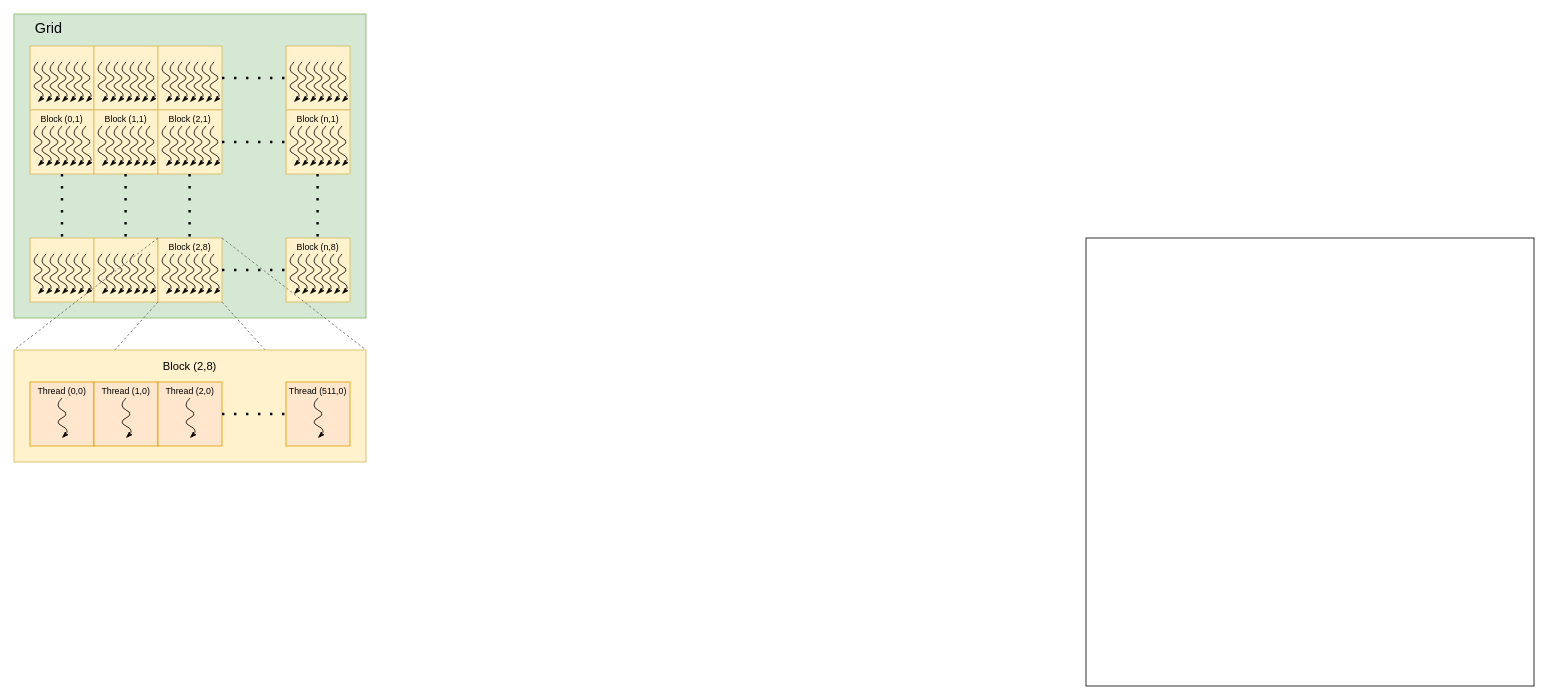
The diagram is 1548 pixels wide and 700 high, and some of its shapes have lost their labels. The centre of each missing label's shape, as x and y in pixels:
"Block (0,0)" belongs at (61,77).
"Block (0,8)" belongs at (61,269).
"Block (1,0)" belongs at (125,77).
"Block (1,8)" belongs at (125,269).
"Block (2,0)" belongs at (189,77).
"Block (n,0)" belongs at (317,77).
